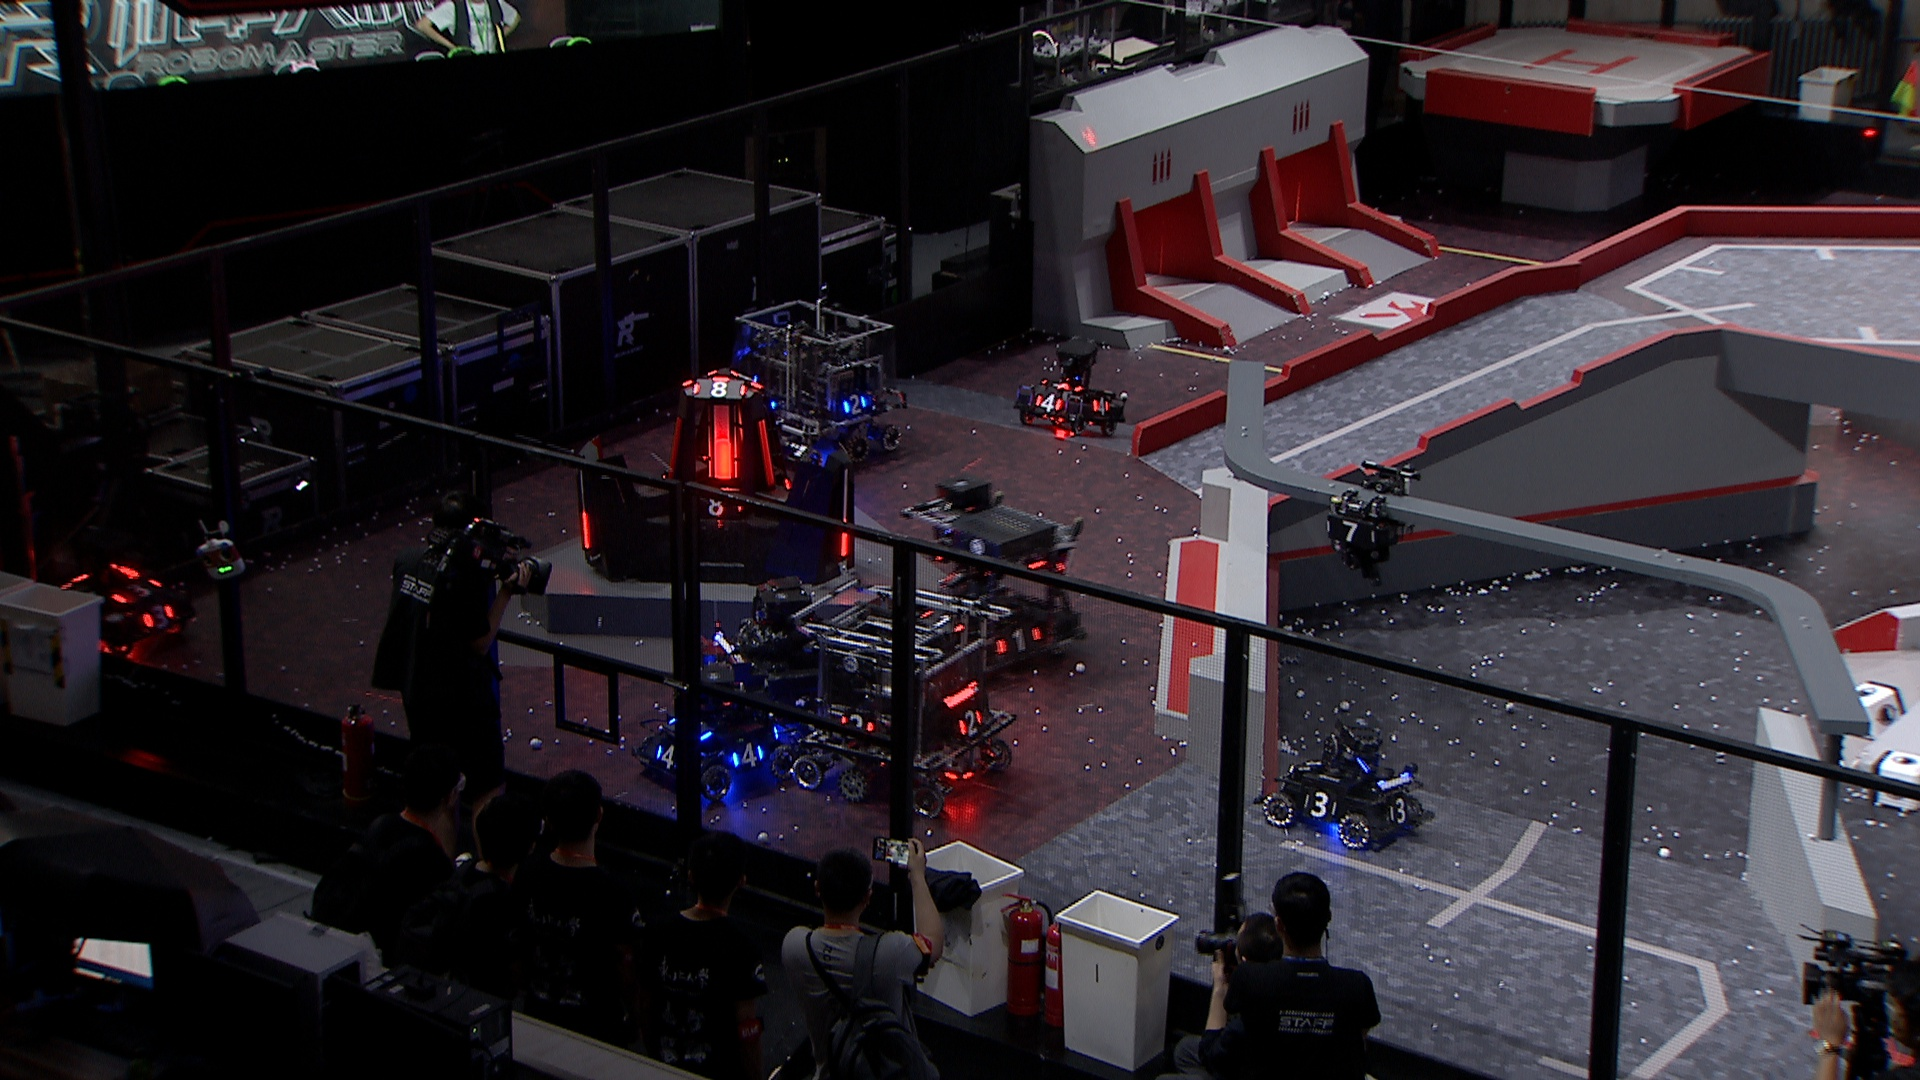armor: (704, 425, 742, 480), (107, 575, 164, 608), (992, 626, 1046, 655), (1323, 520, 1378, 546), (756, 417, 775, 489), (918, 607, 965, 636), (138, 600, 175, 636), (727, 742, 767, 770), (666, 415, 683, 480), (690, 381, 746, 400), (695, 495, 744, 516), (1302, 790, 1338, 818), (957, 707, 986, 737), (839, 713, 877, 736), (1040, 376, 1087, 392), (1389, 796, 1414, 825), (841, 392, 870, 414), (1034, 392, 1064, 413), (655, 741, 675, 771), (582, 510, 596, 551), (1088, 396, 1112, 418), (839, 527, 855, 559), (1299, 756, 1324, 771)
base: (572, 367, 855, 589)
car: (787, 575, 1015, 823), (891, 477, 1087, 674), (716, 295, 906, 465), (679, 578, 858, 727), (1261, 712, 1424, 855), (638, 659, 800, 802), (57, 542, 193, 659), (1011, 338, 1131, 442)
watcher: (1323, 458, 1424, 585)
